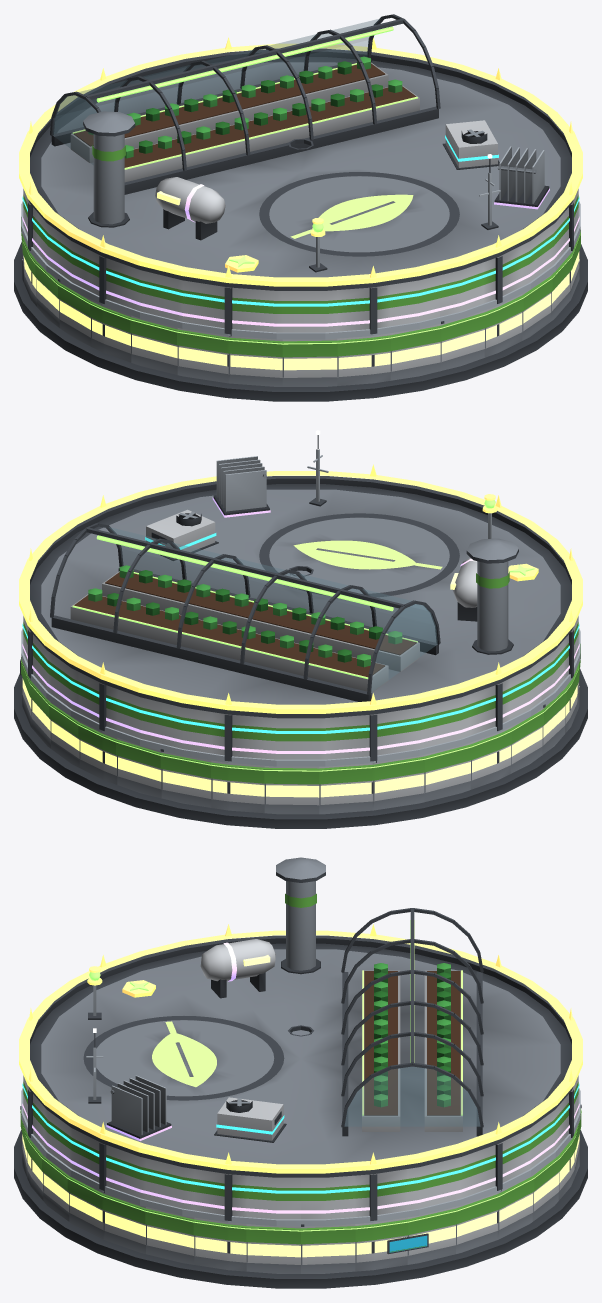
Rendered from kitchen_m.glb.
3 views of the same model, one above another, from view 1: azimuth 30°, elevation 25°; view 2: azimuth 150°, elevation 25°; view 3: azimuth 270°, elevation 25° (orthographic).
Visible parts, largest first — view 1: Roof, Base, L4, Wall_21, Wall_20, Wall_22, Wall_19, Wall_23, L3, Wall_18, Wall_24, Upper_21 (+26 smaller); view 2: Roof, Base, L4, Wall_10, Wall_11, Wall_09, Wall_12, Wall_08, L3, Wall_13, Wall_07, Upper_09 (+24 smaller); view 3: Roof, Base, L4, L3, Wall_00, Wall_31, Wall_30, Wall_29, Wall_01, Upper_00, Upper_31, Wall_02 (+24 smaller).
Part boxes in pixels (x1=…): Roof: x1=28, y1=14, x2=573, y2=290; Base: x1=14, y1=241, x2=587, y2=401; L4: x1=155, y1=146, x2=549, y2=240; Wall_21: x1=282, y1=338, x2=337, y2=386; Wall_20: x1=228, y1=334, x2=282, y2=386; Wall_22: x1=337, y1=333, x2=391, y2=385; Wall_19: x1=177, y1=328, x2=228, y2=383; Wall_23: x1=390, y1=324, x2=441, y2=380; L3: x1=288, y1=120, x2=499, y2=169; Wall_18: x1=130, y1=315, x2=177, y2=374; Wall_24: x1=440, y1=310, x2=485, y2=371; Upper_21: x1=282, y1=290, x2=337, y2=332; Roof: x1=28, y1=476, x2=573, y2=718; Base: x1=14, y1=669, x2=587, y2=828; L4: x1=212, y1=456, x2=477, y2=621; Wall_10: x1=264, y1=766, x2=319, y2=814; Wall_11: x1=319, y1=763, x2=373, y2=814; Wall_09: x1=210, y1=760, x2=264, y2=813; Wall_12: x1=373, y1=755, x2=424, y2=810; Wall_08: x1=160, y1=749, x2=211, y2=807; L3: x1=145, y1=509, x2=313, y2=576; Wall_13: x1=424, y1=743, x2=471, y2=802; Wall_07: x1=116, y1=738, x2=161, y2=798; Upper_09: x1=211, y1=712, x2=264, y2=761; Roof: x1=28, y1=857, x2=573, y2=1177; Base: x1=14, y1=1130, x2=587, y2=1288; L4: x1=106, y1=939, x2=275, y2=1140; L3: x1=214, y1=1025, x2=313, y2=1142; Wall_00: x1=301, y1=1224, x2=355, y2=1273; Wall_31: x1=246, y1=1224, x2=300, y2=1273; Wall_30: x1=193, y1=1217, x2=246, y2=1271; Wall_29: x1=145, y1=1207, x2=194, y2=1264; Wall_01: x1=355, y1=1217, x2=408, y2=1271; Upper_00: x1=301, y1=1175, x2=355, y2=1219; Upper_31: x1=246, y1=1175, x2=300, y2=1219; Wall_02: x1=407, y1=1207, x2=456, y2=1264.
Bounding box in the file's own units: 13.55 × 5.54 × 13.55.
